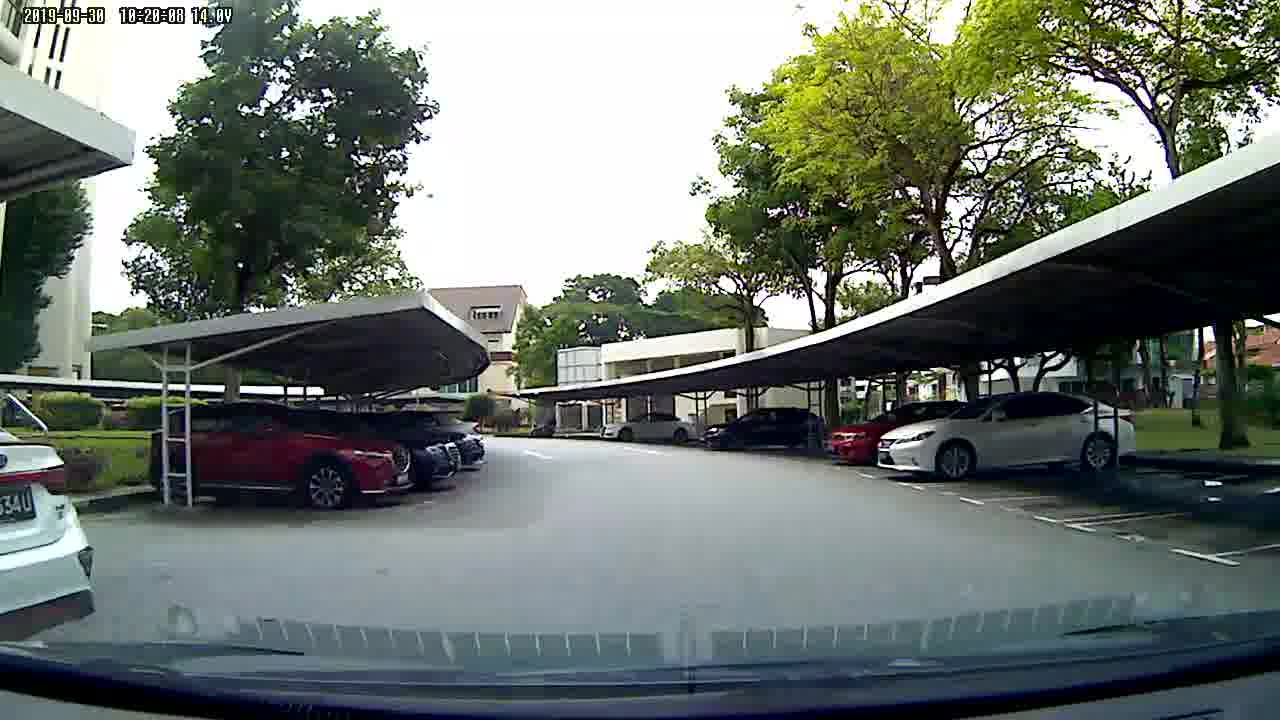car: (148, 394, 490, 512), (873, 391, 1144, 481), (704, 408, 824, 449), (595, 408, 700, 447)
